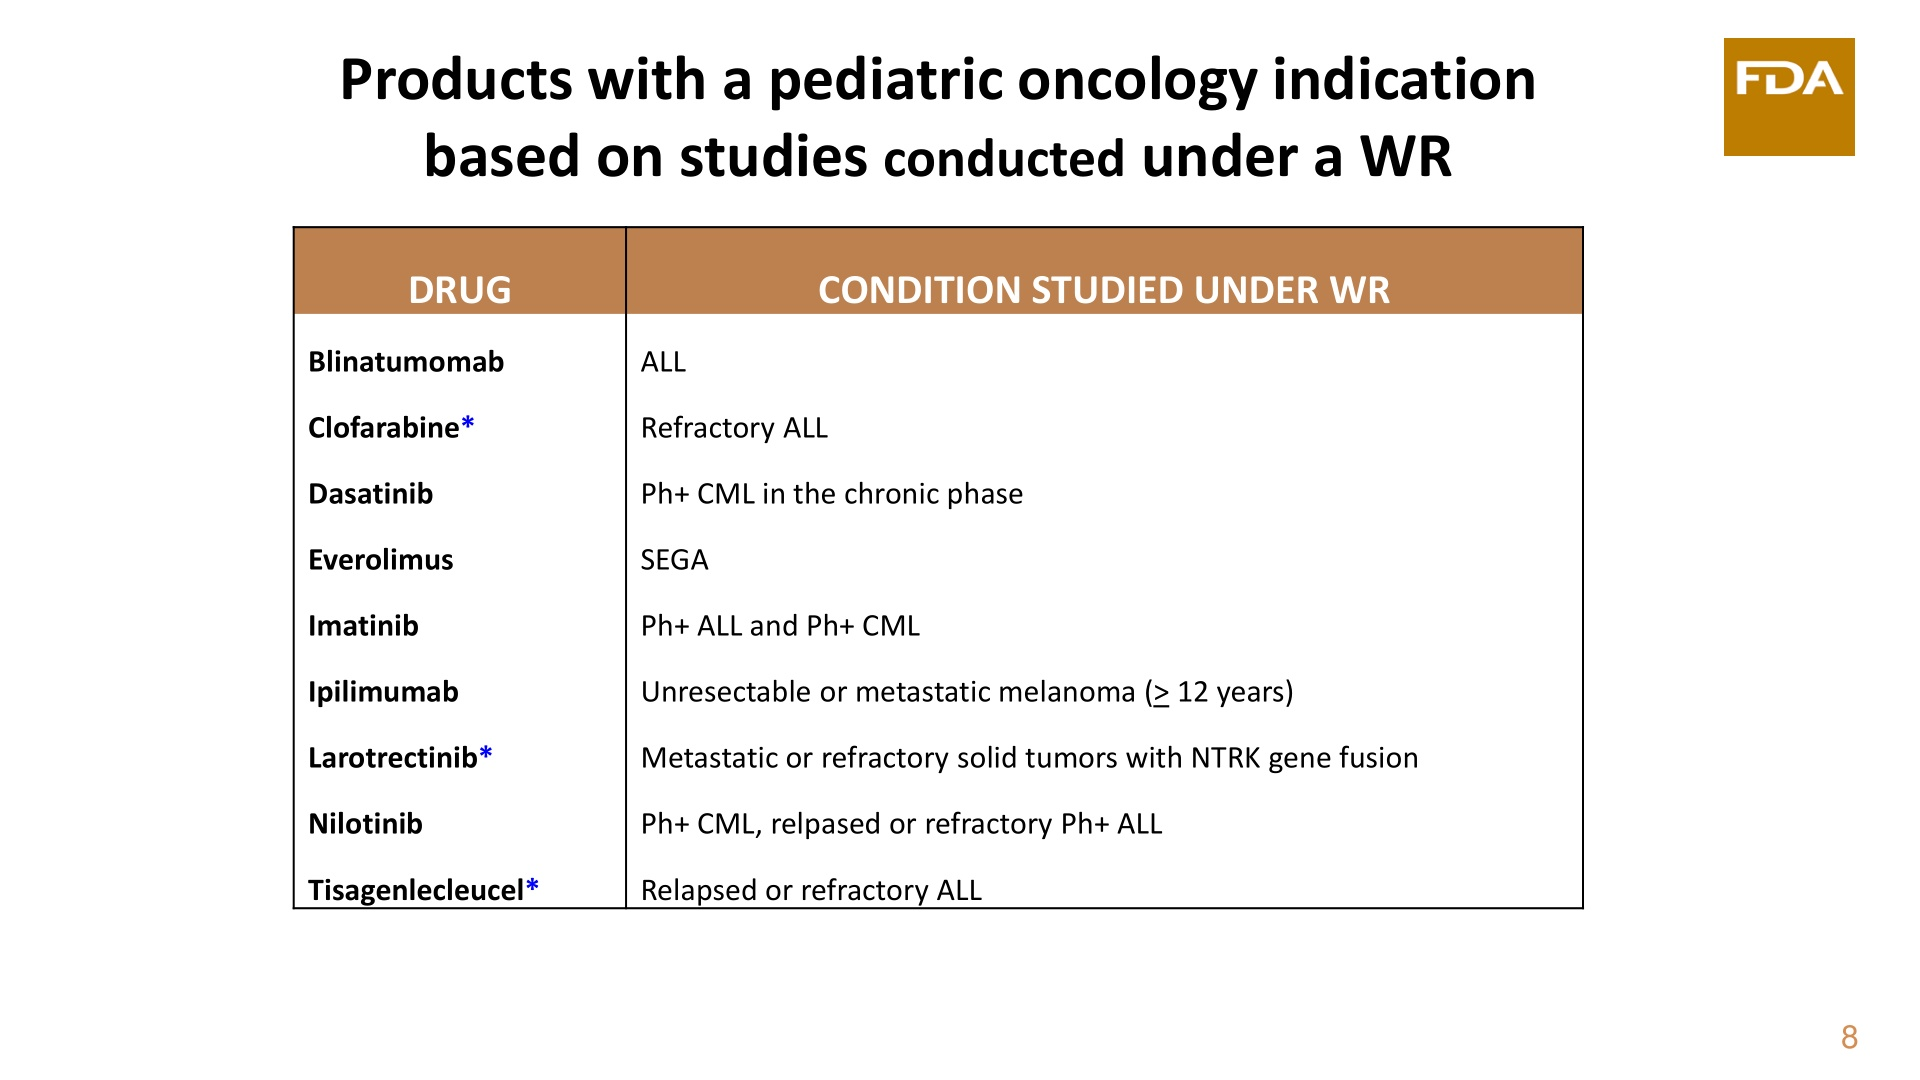partial_lined: (291, 225, 1586, 913)
